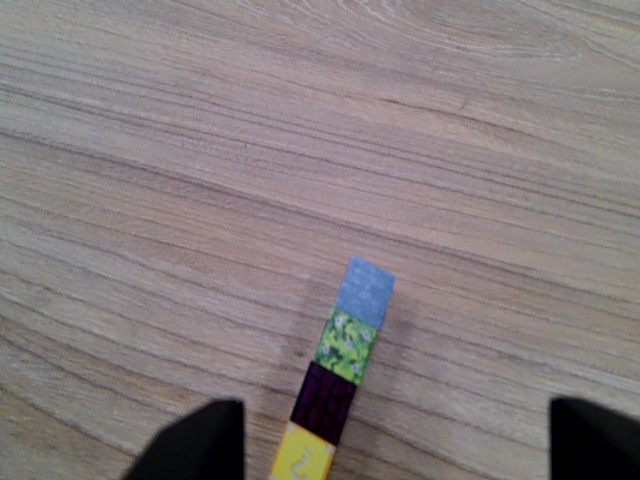brick: (285, 364, 357, 447)
grass: (312, 306, 376, 385)
lucky: (262, 425, 337, 480)
stone: (336, 254, 397, 327)
